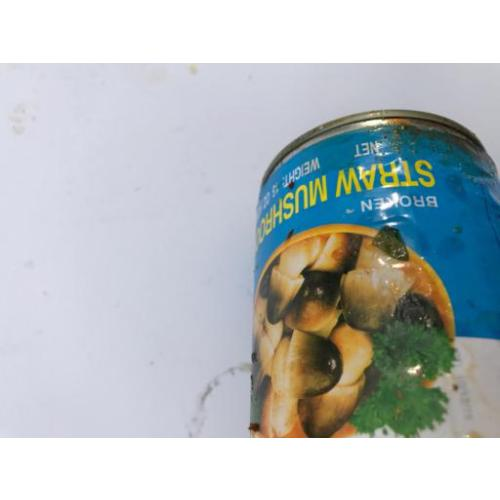metal: (256, 111, 499, 438)
